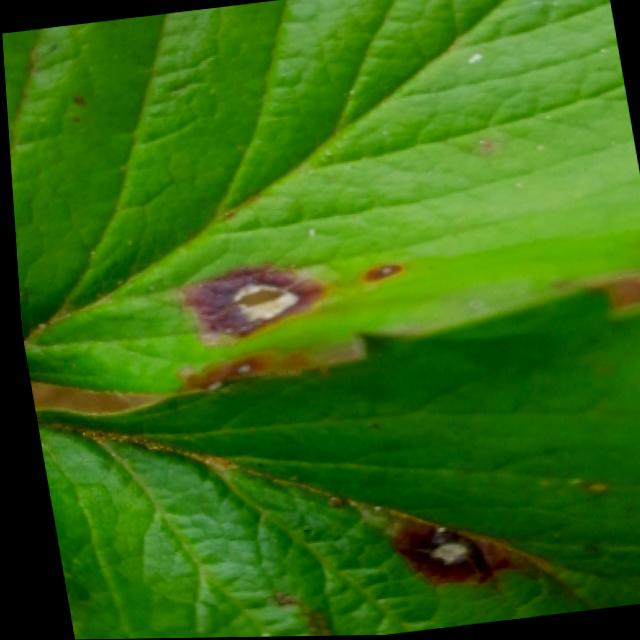Leaf Spot: (2, 0, 640, 396), (29, 288, 640, 640)
